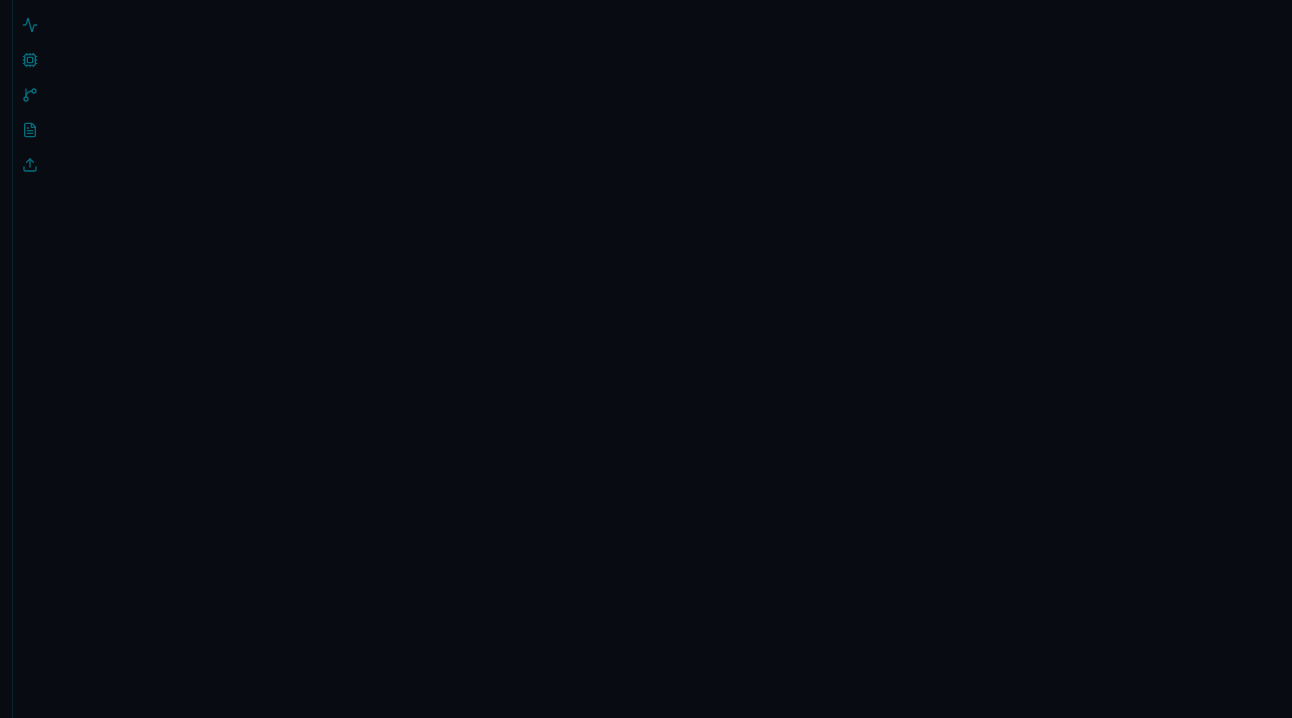
Scenario: RightPanel insights › shows a question-driven insights dashboard backed by session data
Click the button named "pulse insights" at (30, 24), box top-left (13, 7), bottom-right (48, 42)
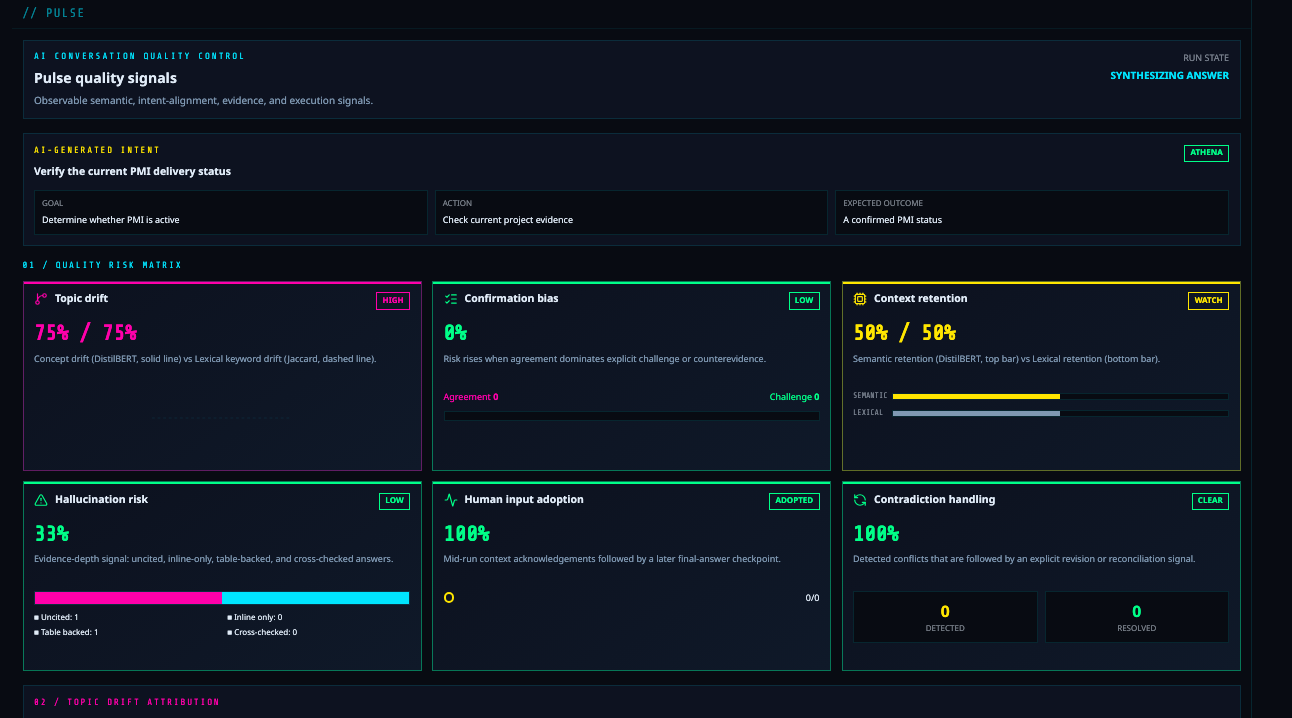
Check: the heading "Topic drift" is shown, box top-left (55, 292), bottom-right (108, 306)
Check: the heading "Confirmation bias" is shown, box top-left (464, 292), bottom-right (559, 306)
Check: the picture named "Agreement 0, challenge 0" is shown, box top-left (444, 410), bottom-right (820, 421)
